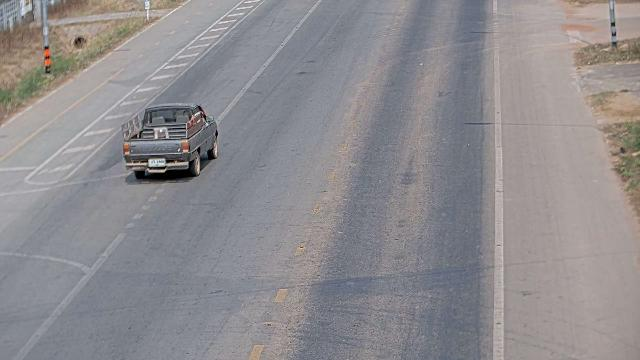pickup-truck: (120, 102, 219, 179)
